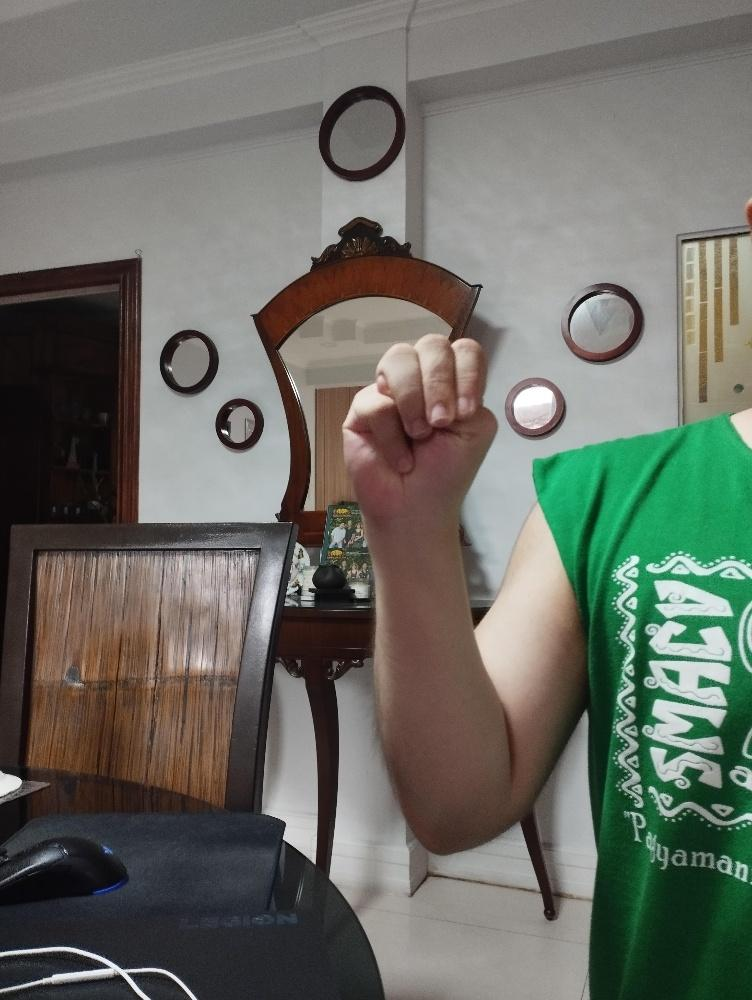m: (338, 328, 500, 536)
